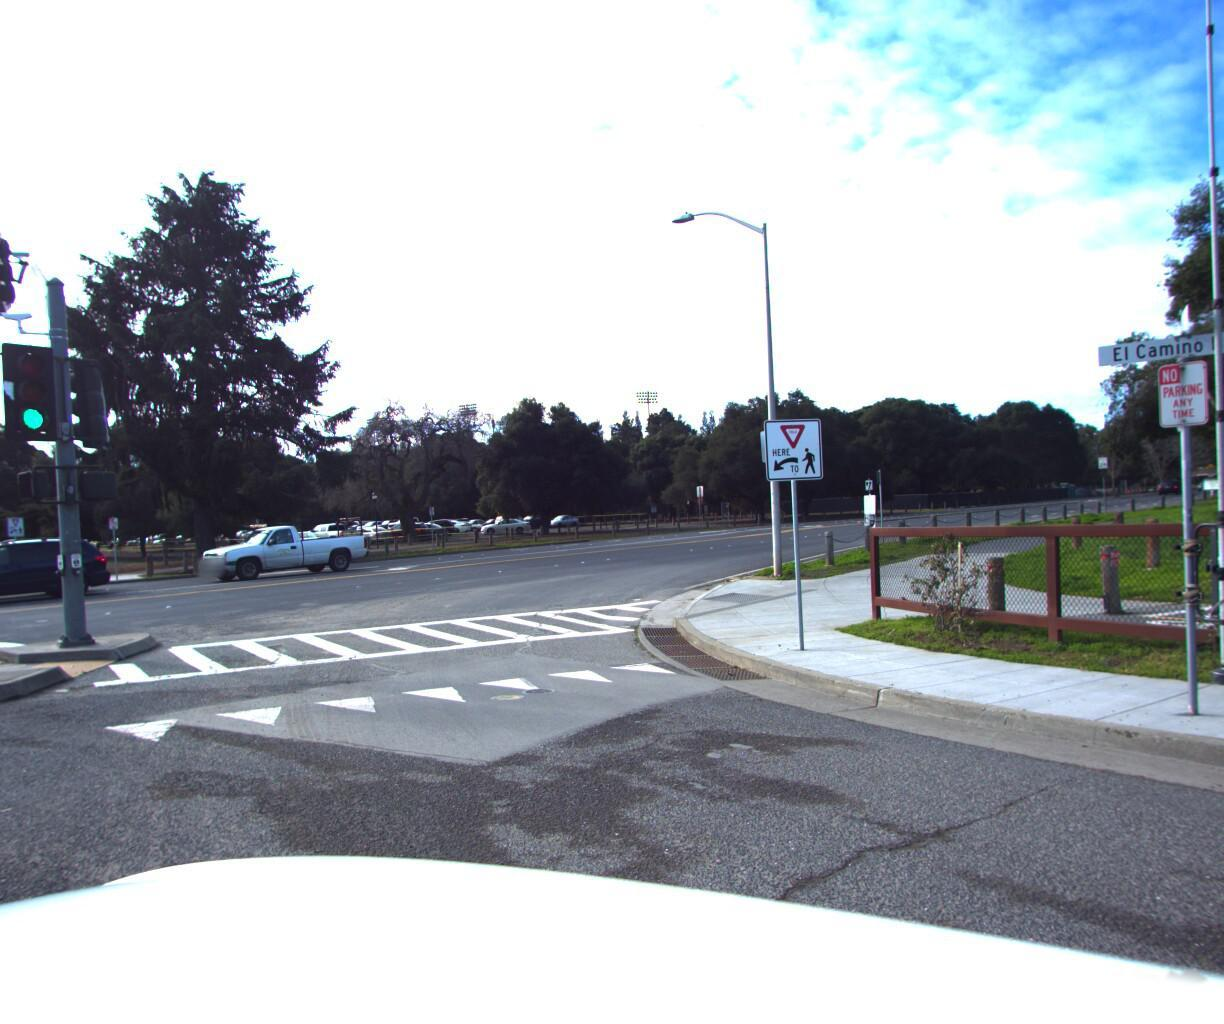car: (186, 507, 373, 580), (0, 527, 116, 610)
